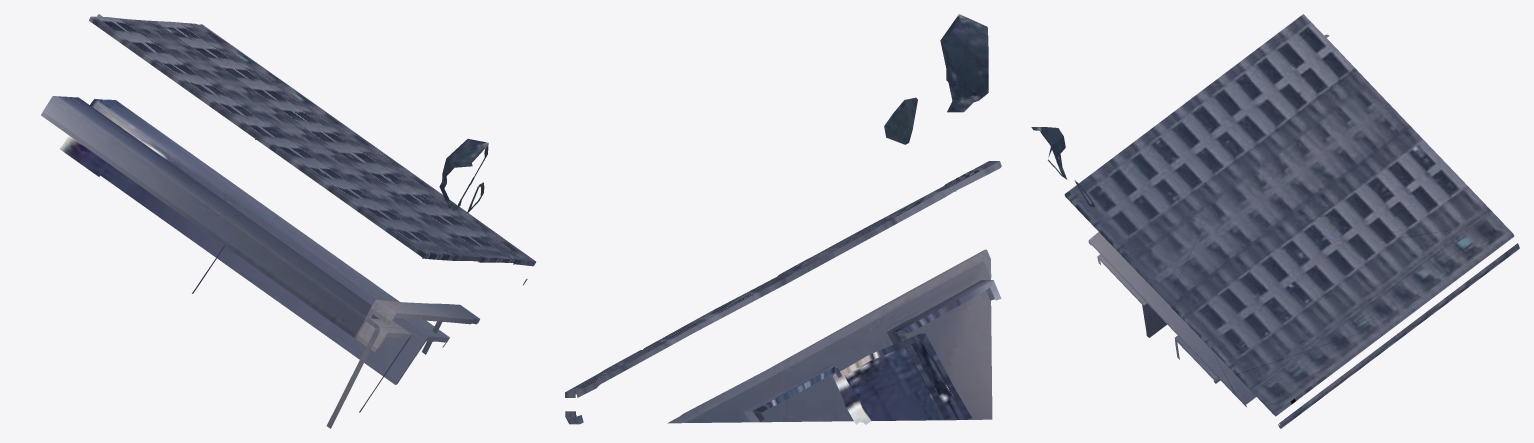
3 renders of one model, left to right at view 1: azimuth 30°, elevation 25°; view 2: azimuth 150°, elevation 25°; view 3: azimuth 270°, elevation 25°, orthographic. The views are drawn at different scales.
Size of the model in its own units: 45.35 by 34.88 by 57.76.
Materials: 2 (2 with a texture image).
